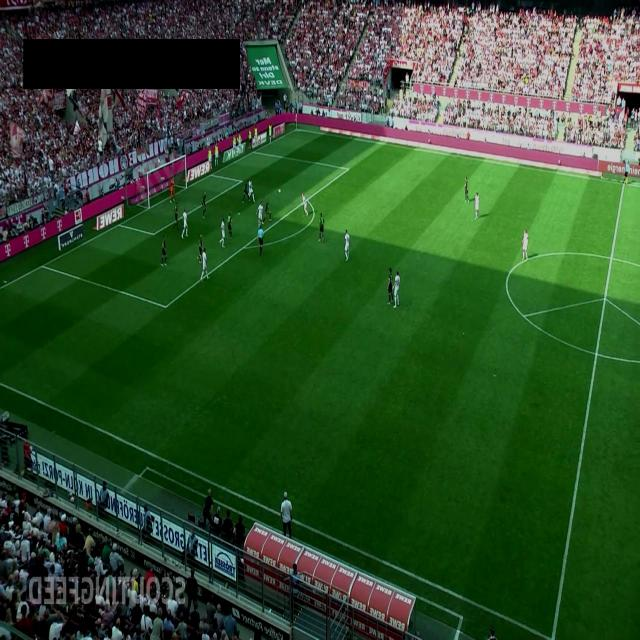goalkeeper: (168, 174, 176, 204)
player: (393, 270, 401, 308), (200, 247, 208, 281), (262, 197, 272, 223), (160, 235, 168, 267), (521, 229, 529, 260), (387, 267, 393, 305), (256, 200, 264, 228), (219, 217, 226, 248), (318, 212, 325, 242), (241, 181, 250, 203), (182, 208, 188, 240), (301, 192, 309, 216), (344, 229, 350, 261), (173, 202, 179, 230), (474, 192, 480, 220), (248, 178, 255, 202), (198, 234, 204, 260), (227, 212, 233, 238), (464, 176, 469, 204), (202, 191, 206, 219)
referee: (622, 158, 630, 186), (258, 223, 264, 257)
